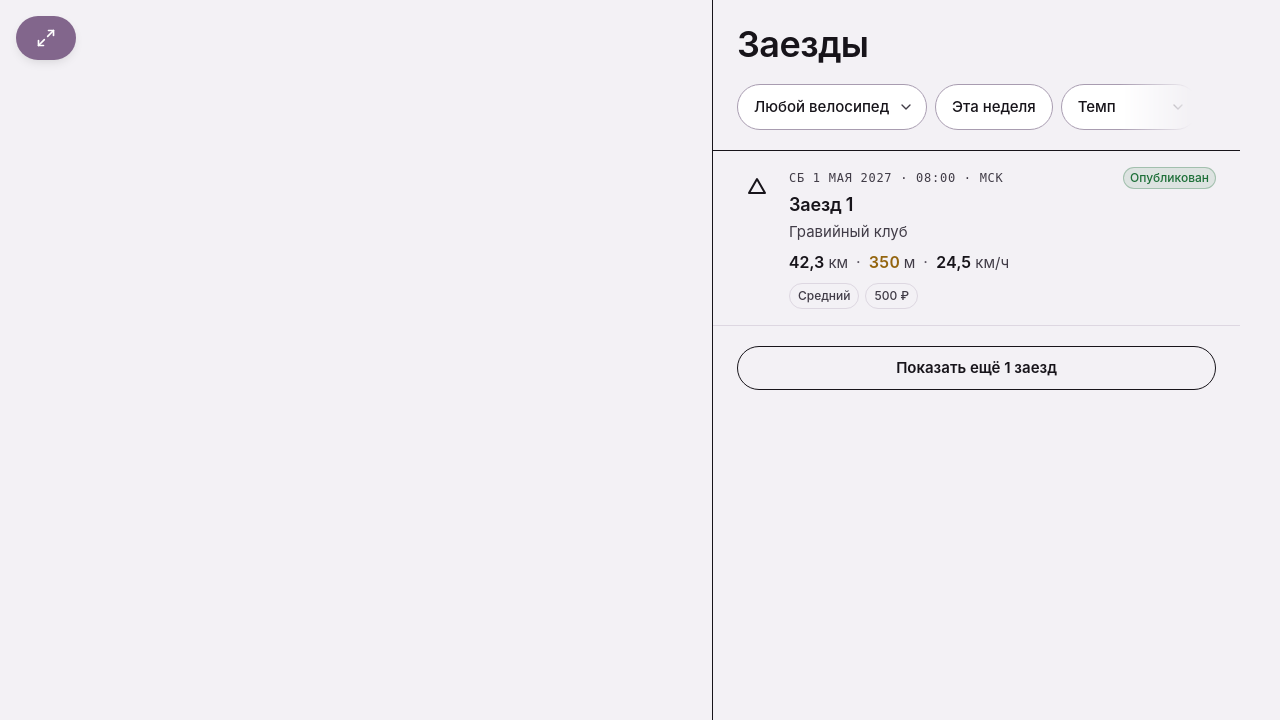
Test: DiscoveryList › pagination › puts every loaded ride on the map, not only the first page
Check: the link "Заезд 1" is shown, box x1=789 y1=194 x2=853 y2=215
Click the button "Показать ещё 1 заезд" at (976, 368), box x1=737 y1=346 x2=1216 y2=390
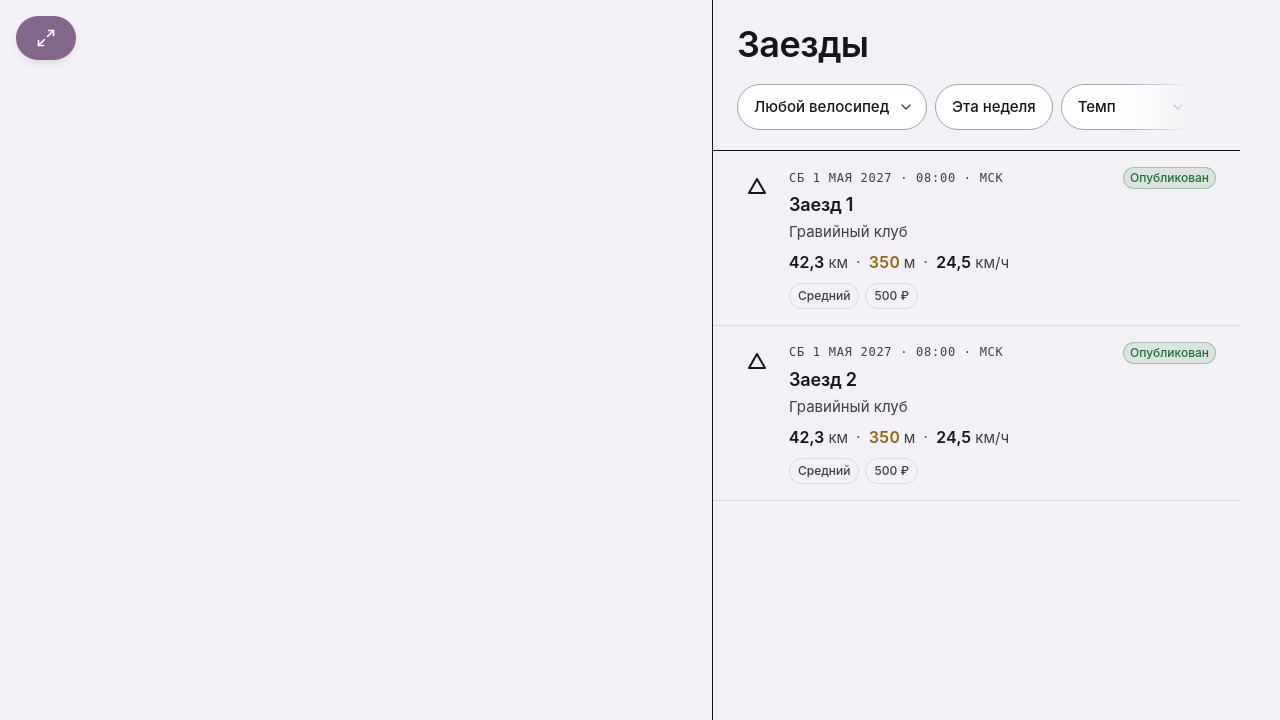
Check: the link "Заезд 2" is shown, box x1=789 y1=369 x2=857 y2=390
